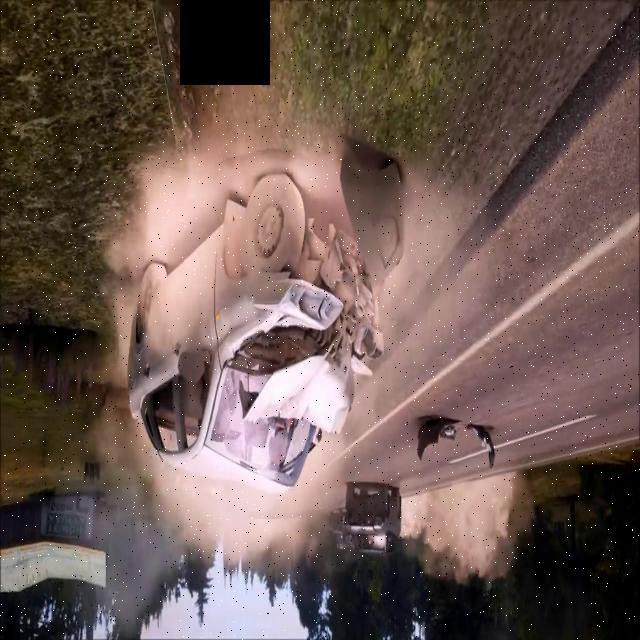severe: (124, 171, 386, 494)
